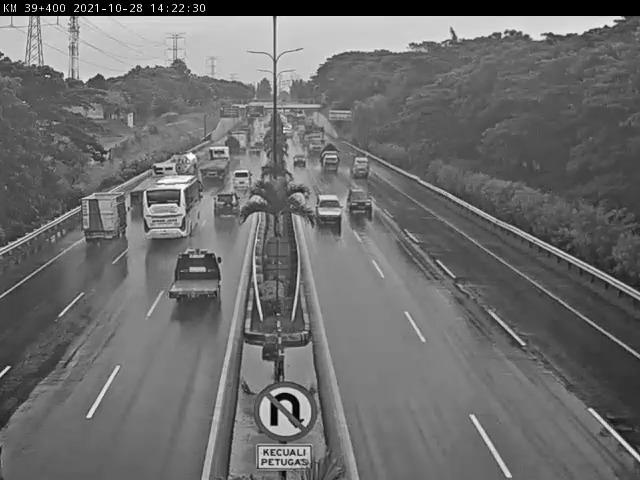big bus: (140, 175, 201, 239)
big truck: (133, 161, 172, 204), (197, 144, 230, 188)
car: (169, 248, 226, 311), (211, 191, 242, 224), (315, 190, 342, 225), (345, 187, 374, 219), (232, 167, 254, 189), (291, 153, 309, 170), (248, 144, 263, 160), (251, 139, 264, 154)
small truck: (77, 189, 124, 245), (166, 152, 196, 178), (321, 144, 342, 177), (347, 151, 372, 178), (217, 137, 238, 162)
